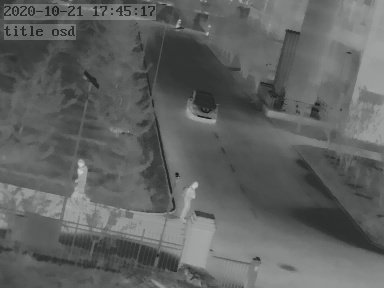person: (179, 180, 198, 220), (74, 158, 89, 201), (174, 17, 181, 31)
vehicle: (185, 87, 220, 124)
